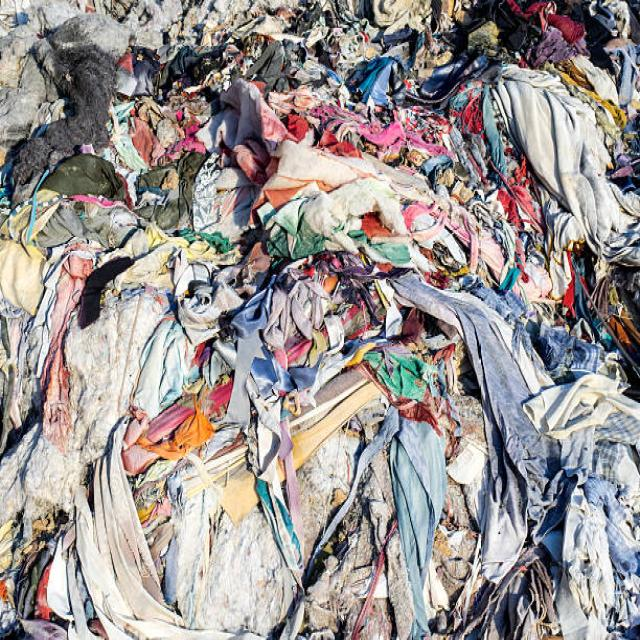trash: (16, 24, 619, 606)
